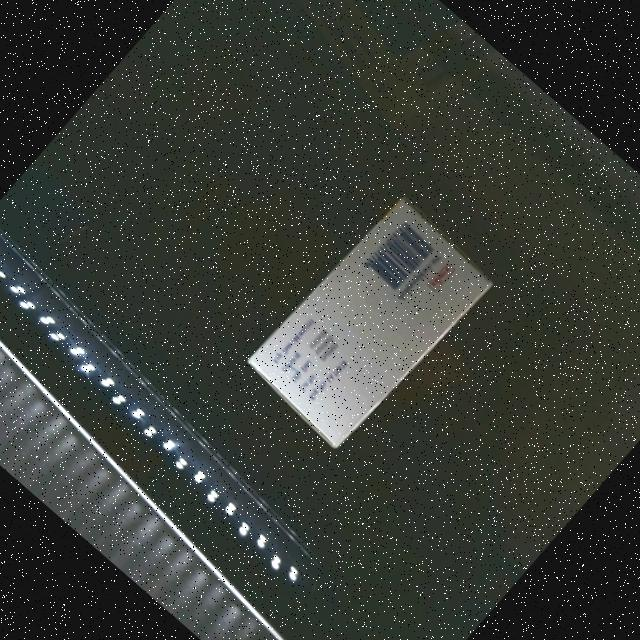sefloc: (245, 196, 496, 447)
